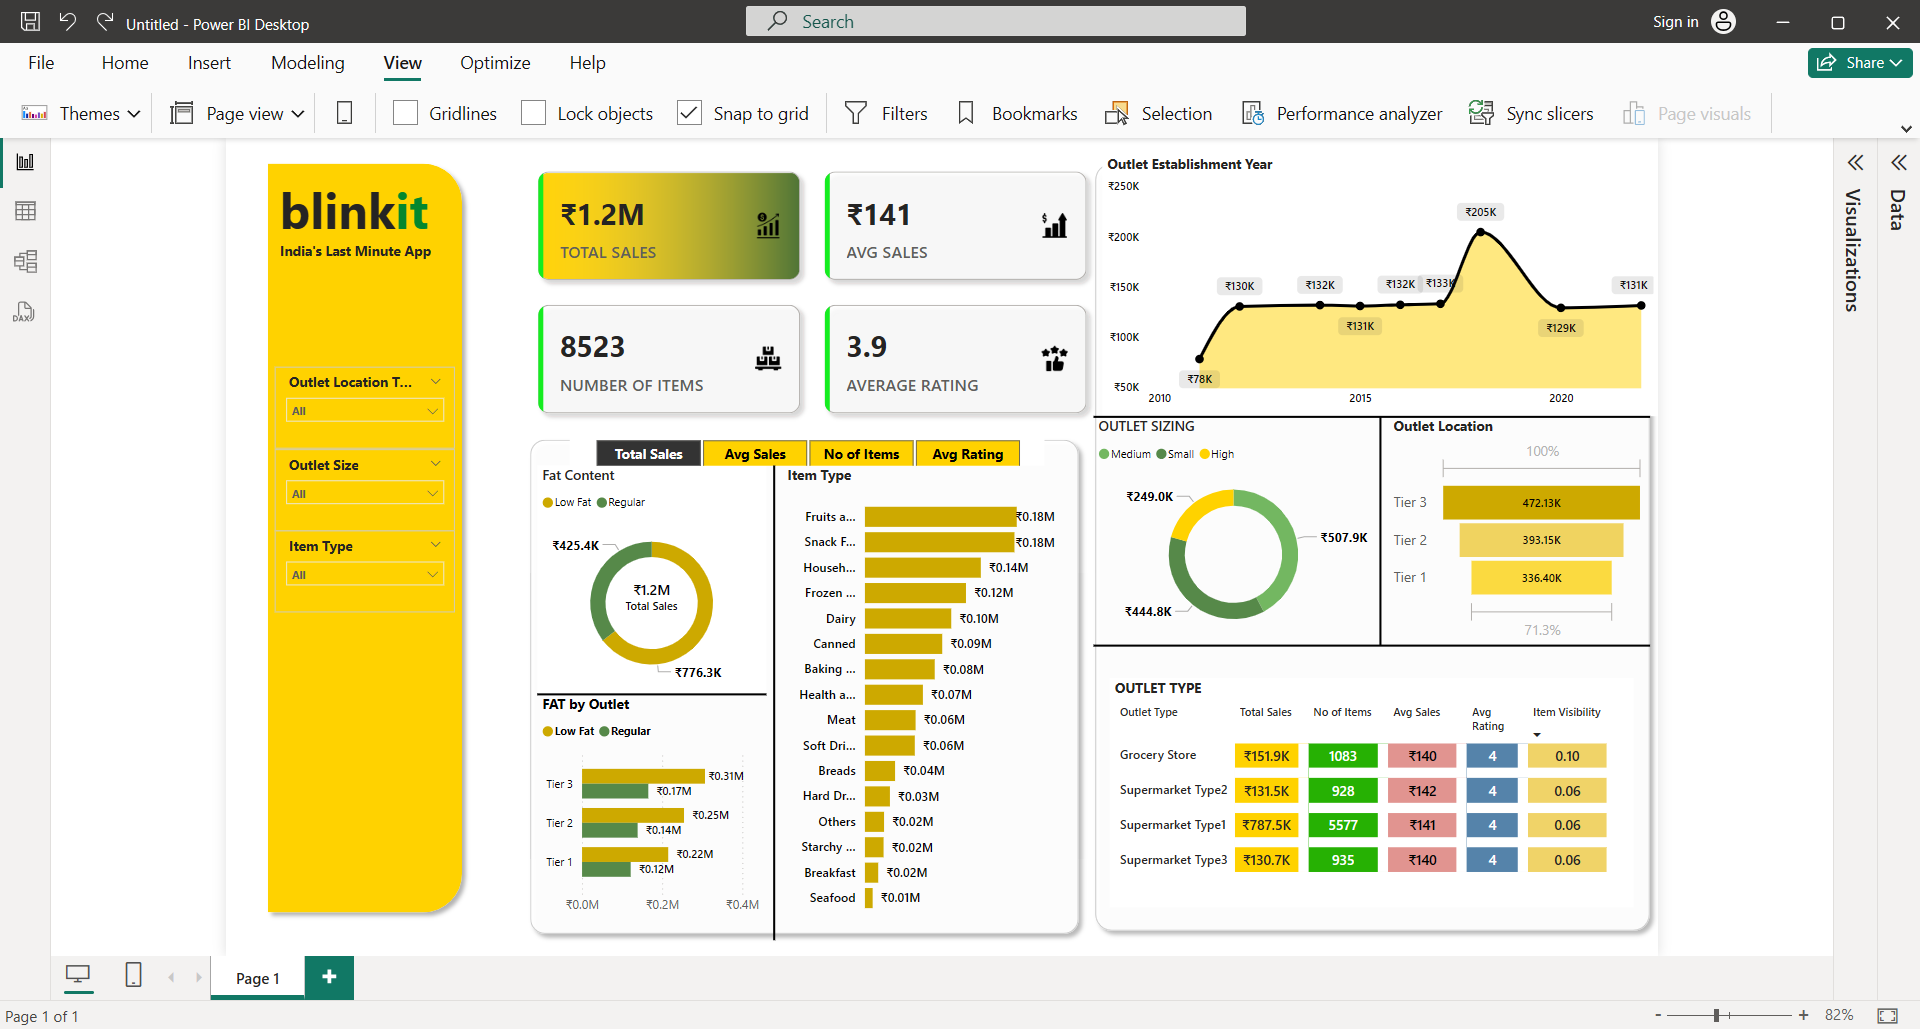

This screenshot's page, from the dashboard's own definition file:
{"tool":"powerbi","page":{"name":"Page 1","canvas":[1400,800],"ordinal":0},"visuals":[{"type":"shape","box":[32,16,208,750],"z":0},{"type":"textbox","box":[48,32,176,80],"z":1000},{"type":"textbox","box":[48,96,160,32],"z":2000},{"type":"cardVisual","fields":{"Data":["BlinkIT Grocery Data.Total Sales","BlinkIT Grocery Data.Avg Sales","BlinkIT Grocery Data.No of Items","BlinkIT Grocery Data.Avg Rating"]},"box":[288,16,570,270],"z":3000},{"type":"shape","box":[288,286,554,501],"z":4000},{"type":"donutChart","title":"Fat Content","fields":{"Y":["BlinkIT Grocery Data.Total Sales"],"Category":["BlinkIT Grocery Data.Item Fat Content"]},"box":[304,320,224,224],"z":5000},{"type":"slicer","fields":{"Values":["metrics.metrics"]},"box":[336,288,464,32],"z":6000},{"type":"cardVisual","fields":{"Data":["BlinkIT Grocery Data.Total Sales"]},"box":[352,400,128,96],"z":7000},{"type":"clusteredBarChart","title":"FAT by Outlet ","fields":{"Y":["BlinkIT Grocery Data.Total Sales"],"Category":["BlinkIT Grocery Data.Outlet Location Type"],"Series":["BlinkIT Grocery Data.Item Fat Content"]},"box":[304,544,224,224],"z":8000},{"type":"shape","box":[304,528,224,32],"z":9000},{"type":"shape","box":[528,320,16,464],"z":10000},{"type":"barChart","title":"Item Type","fields":{"Y":["BlinkIT Grocery Data.Total Sales"],"Category":["BlinkIT Grocery Data.Item Type"]},"box":[544,320,272,448],"z":11000},{"type":"shape","box":[840,16,560,768],"z":12000},{"type":"lineChart","title":"Outlet Establishment Year","fields":{"Y":["BlinkIT Grocery Data.Total Sales"],"Category":["BlinkIT Grocery Data.Outlet Establishment Year"]},"box":[856,16,544,256],"z":13000},{"type":"shape","box":[848,256,544,32],"z":14000},{"type":"donutChart","title":"OUTLET SIZING","fields":{"Y":["BlinkIT Grocery Data.Total Sales"],"Category":["BlinkIT Grocery Data.Outlet Size"]},"box":[848,272,274,224],"z":15000},{"type":"shape","box":[1120,272,16,224],"z":16000},{"type":"funnel","title":"Outlet Location ","fields":{"Y":["Sum(BlinkIT Grocery Data.Sales)"],"Category":["BlinkIT Grocery Data.Outlet Location Type"]},"box":[1136,272,256,224],"z":17000},{"type":"shape","box":[848,480,544,32],"z":18000},{"type":"pivotTable","title":"OUTLET TYPE","fields":{"Rows":["BlinkIT Grocery Data.Outlet Type"],"Values":["BlinkIT Grocery Data.Total Sales","BlinkIT Grocery Data.No of Items","BlinkIT Grocery Data.Avg Sales","BlinkIT Grocery Data.Avg Rating","Avg(BlinkIT Grocery Data.Item Visibility)"]},"box":[864,528,512,224],"z":19000},{"type":"slicer","fields":{"Values":["BlinkIT Grocery Data.Outlet Location Type"]},"box":[48,224,176,80],"z":20000},{"type":"slicer","fields":{"Values":["BlinkIT Grocery Data.Outlet Size"]},"box":[48,304,176,80],"z":21000},{"type":"slicer","fields":{"Values":["BlinkIT Grocery Data.Item Type"]},"box":[48,384,176,80],"z":22000}]}

Visuals, with their boxes on the page's 1400x800 design canvas (x1, y1, x2, y2). These are canvas units, not pixel positions in the 1920x1029 screenshot, which may show the page scaled, cropped or inside an application window:
shape: 32, 16, 240, 766
textbox: 48, 32, 224, 112
textbox: 48, 96, 208, 128
cardVisual - BlinkIT Grocery Data.Total Sales x BlinkIT Grocery Data.Avg Sales: 288, 16, 858, 286
shape: 288, 286, 842, 787
"Fat Content" donutChart: 304, 320, 528, 544
slicer - metrics.metrics: 336, 288, 800, 320
cardVisual - BlinkIT Grocery Data.Total Sales: 352, 400, 480, 496
"FAT by Outlet " clusteredBarChart: 304, 544, 528, 768
shape: 304, 528, 528, 560
shape: 528, 320, 544, 784
"Item Type" barChart: 544, 320, 816, 768
shape: 840, 16, 1400, 784
"Outlet Establishment Year" lineChart: 856, 16, 1400, 272
shape: 848, 256, 1392, 288
"OUTLET SIZING" donutChart: 848, 272, 1122, 496
shape: 1120, 272, 1136, 496
"Outlet Location " funnel: 1136, 272, 1392, 496
shape: 848, 480, 1392, 512
"OUTLET TYPE" pivotTable: 864, 528, 1376, 752
slicer - BlinkIT Grocery Data.Outlet Location Type: 48, 224, 224, 304
slicer - BlinkIT Grocery Data.Outlet Size: 48, 304, 224, 384
slicer - BlinkIT Grocery Data.Item Type: 48, 384, 224, 464
